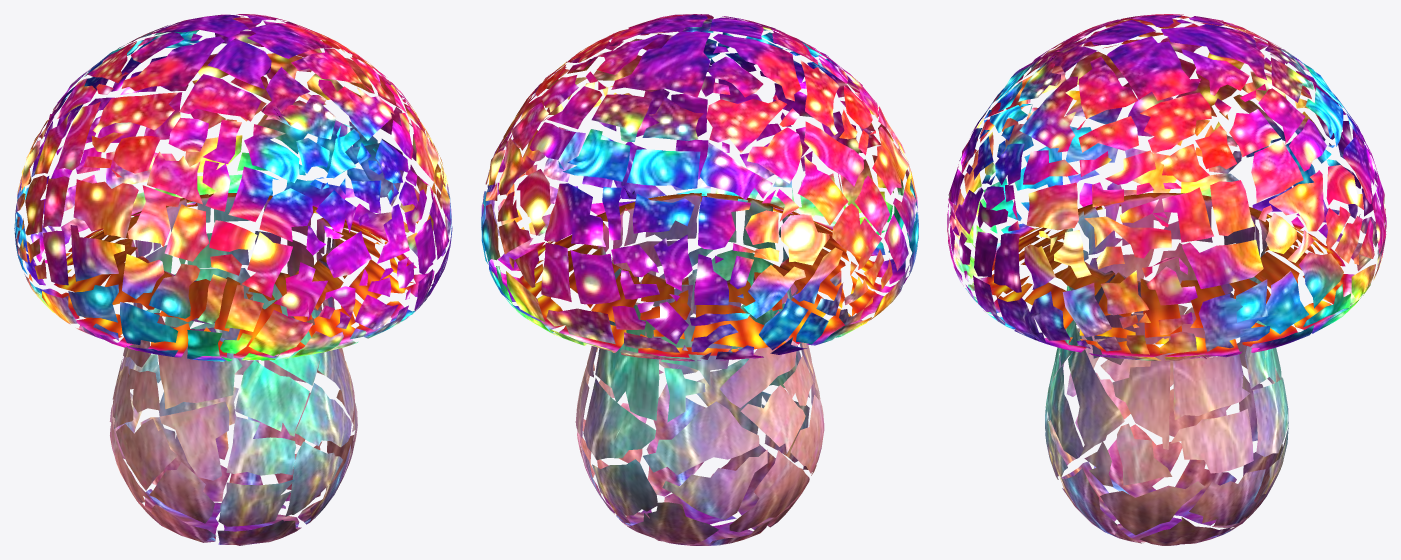
The model's file is champignon_loin.glb.
3 renders of one model, left to right at view 1: azimuth 30°, elevation 25°; view 2: azimuth 150°, elevation 25°; view 3: azimuth 270°, elevation 25°, orthographic.
Visible parts, largest first — view 1: mesh; view 2: mesh; view 3: mesh.
Boxes of the visible parts, x1,y1,x2,y2 form: mesh: (14,14,452,545); mesh: (481,14,918,545); mesh: (947,14,1386,545).
Size of the model in its own units: 1.55 by 1.9 by 1.55.
Materials: 1 (1 with a texture image).
